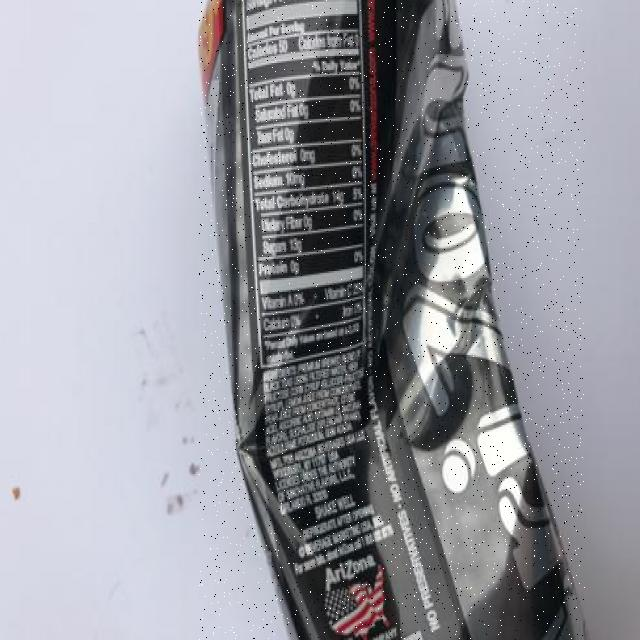metal: (199, 0, 585, 640)
